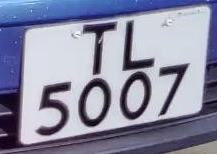0: (73, 75, 116, 133), (117, 68, 156, 126)
5: (32, 74, 78, 142)
7: (154, 62, 193, 119)
L: (116, 14, 163, 73)
T: (74, 20, 123, 75)
